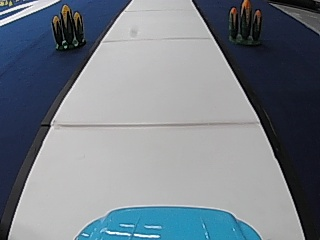corn: (50, 2, 86, 50), (226, 0, 263, 45)
